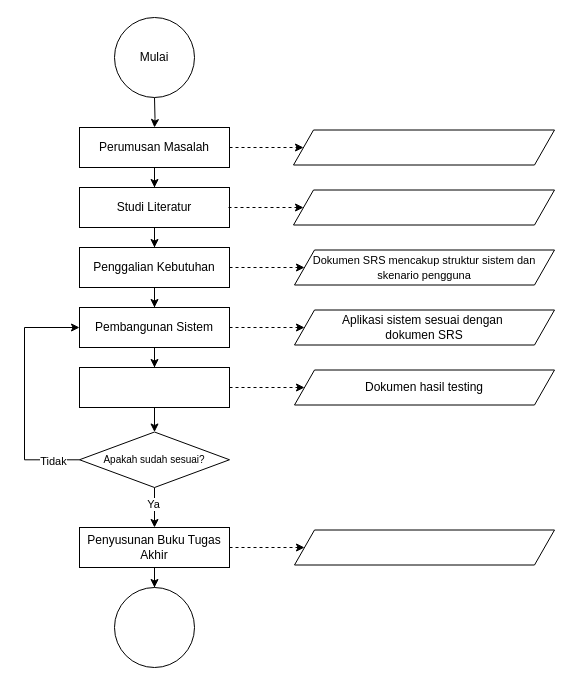
This 572x685 diagram has some shape labels left out. The centre of each missing label's shape, as x and y in pixels:
"Buku tugas akhir" goes at pixel 424 547.
"Gambaran umum permasalahan dan solusi" goes at pixel 423 147.
"Pengujian Sistem" goes at pixel 154 387.
"Review artikel ilmiah dan buku terkait" goes at pixel 423 207.
"Selesai" goes at pixel 154 627.
